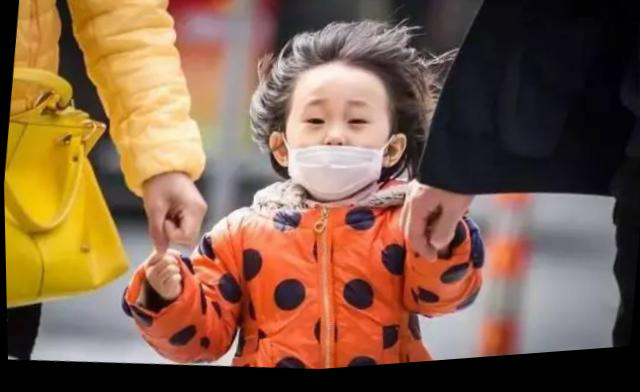WRONG: (278, 84, 393, 216)
